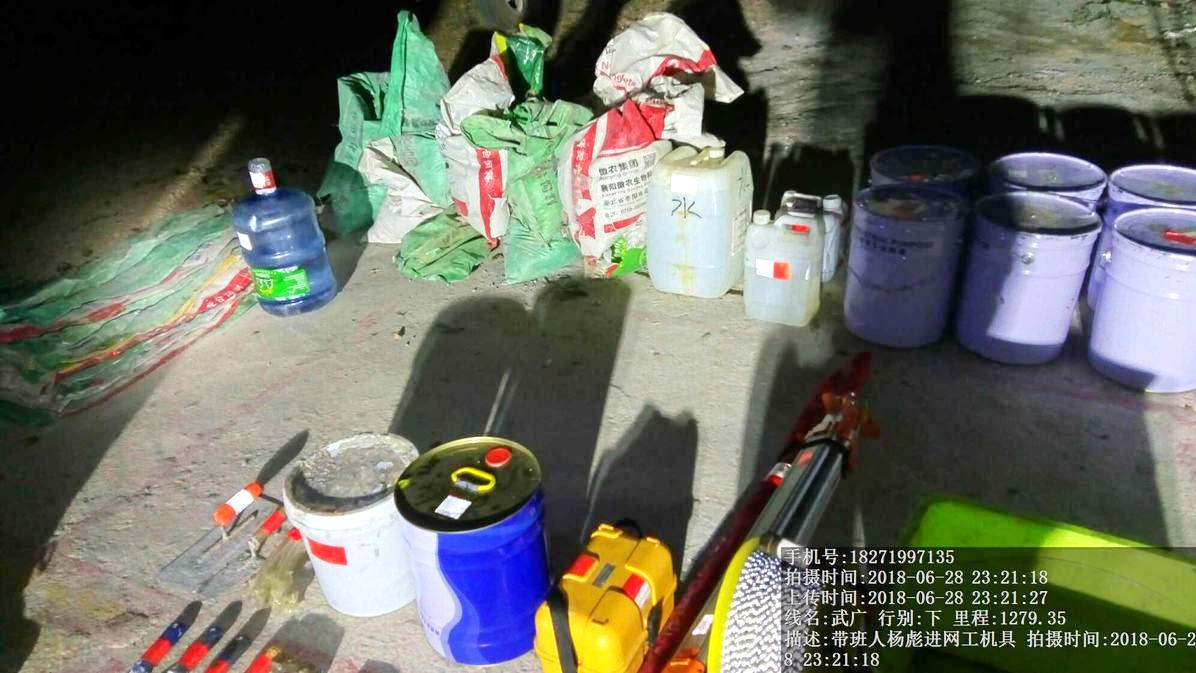BZD: (17, 208, 234, 427)
